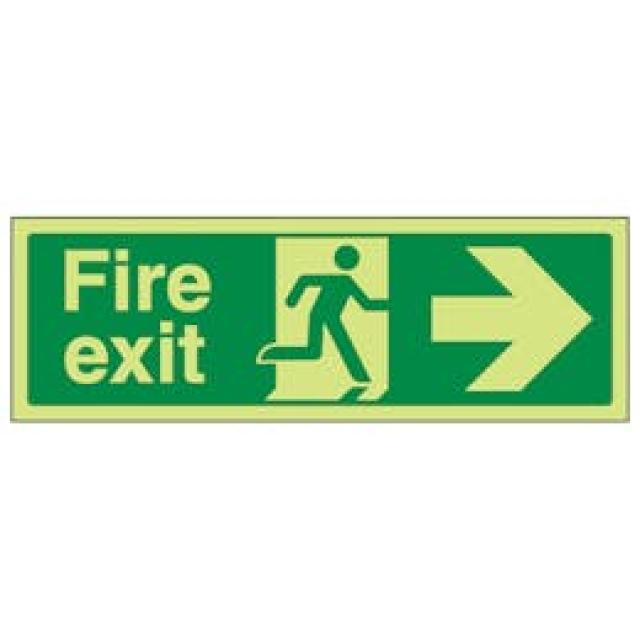exit_sign: (13, 209, 640, 427)
